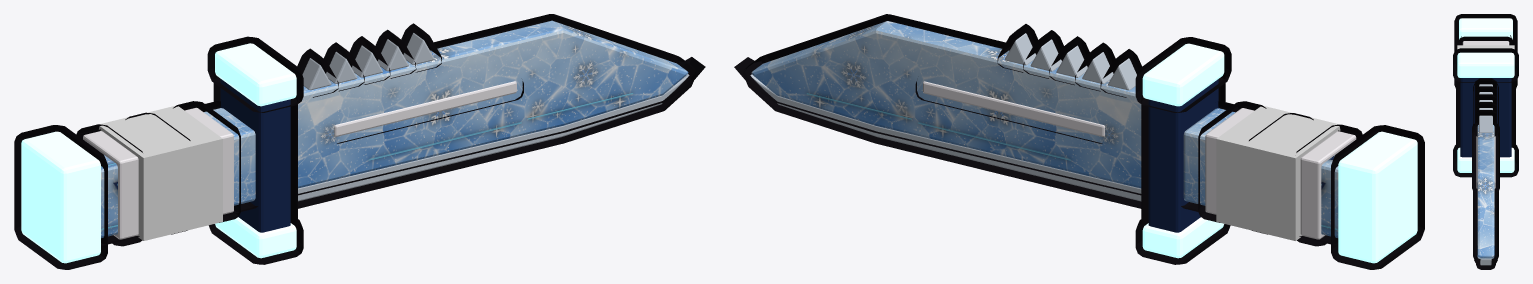
The model's file is Couteau_Cryo.fbx.
3 renders of one model, left to right at view 1: azimuth 30°, elevation 25°; view 2: azimuth 150°, elevation 25°; view 3: azimuth 270°, elevation 25°, orthographic. The views are drawn at different scales.
Visible parts, largest first — view 1: Body_Cryo, Body_Contour, Body_BleuGlace, Root, Body_Argent, Body_Blanc, Body_BleuNuit; view 2: Body_Cryo, Body_Contour, Body_BleuGlace, Root, Body_Argent, Body_Blanc, Body_BleuNuit; view 3: Body_Contour, Body_BleuGlace, Body_Cryo, Body_BleuNuit, Body_Argent, Body_Blanc, Root.
Part boxes in pixels (x1,y1,x2,y2): Body_Cryo: (101,20,688,238); Body_Contour: (14,14,705,269); Body_BleuGlace: (21,43,296,263); Root: (99,105,222,240); Body_Argent: (298,33,689,201); Body_Blanc: (83,81,516,239); Body_BleuNuit: (220,79,290,232); Body_Cryo: (751,21,1338,237); Body_Contour: (734,14,1424,269); Body_BleuGlace: (1142,43,1417,263); Root: (1216,105,1340,240); Body_Argent: (750,33,1141,201); Body_Blanc: (923,81,1356,239); Body_BleuNuit: (1148,79,1218,232); Body_Contour: (1453,14,1518,269); Body_BleuGlace: (1457,18,1514,172); Body_Cryo: (1477,125,1494,258); Body_BleuNuit: (1460,78,1511,157); Body_Argent: (1479,84,1492,265); Body_Blanc: (1462,41,1509,188); Root: (1457,45,1514,49).
Bounding box in the file's own units: 1.67 × 0.457 × 0.2305.
Materials: 6 (1 with a texture image).
